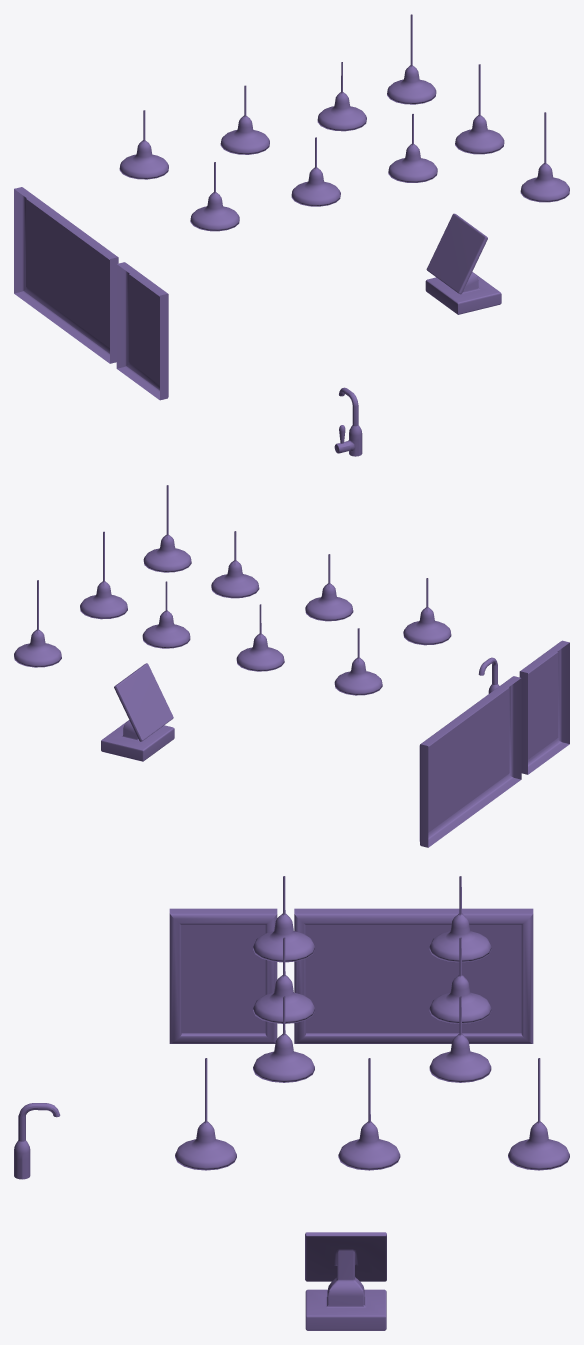
3 views of the same model, one above another, from view 1: azimuth 30°, elevation 25°; view 2: azimuth 150°, elevation 25°; view 3: azimuth 270°, elevation 25° (orthographic). The views are drawn at different scales.
Parts seen in each view (by area): view 1: S01_group01; view 2: S01_group01; view 3: S01_group01.
Part boxes in pixels (x1,y1,x2,y2): S01_group01: (14,14,569,456); S01_group01: (14,485,569,847); S01_group01: (14,876,569,1330).
Size of the model in its own units: 20685 by 10458 by 18964.
